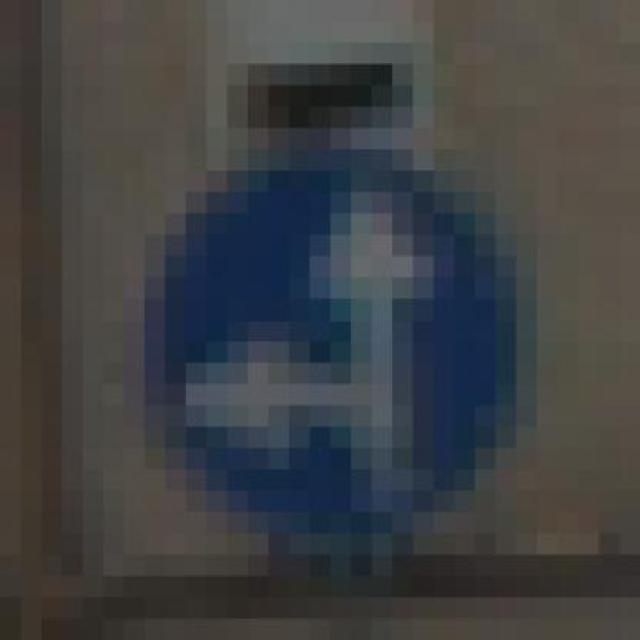Go straight or turn left: (62, 106, 558, 534)
